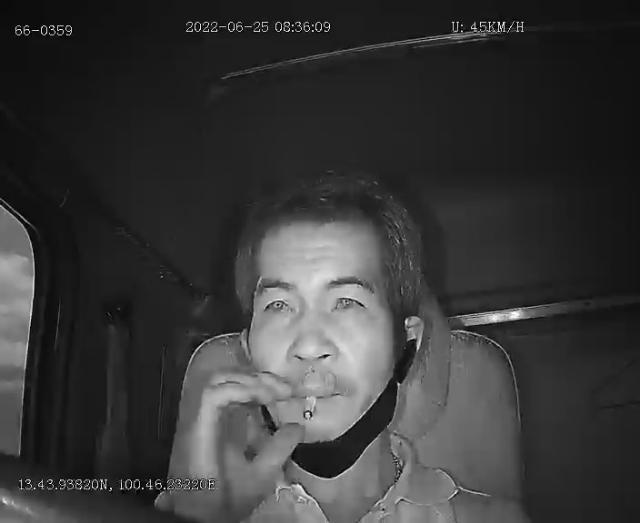SafeDriving: (322, 281, 372, 318), (257, 286, 300, 318)
Smoking: (303, 395, 317, 424)
